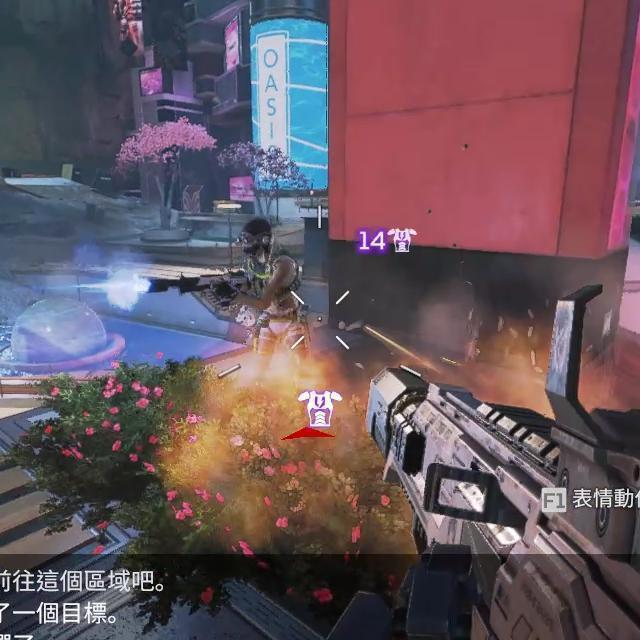avatar: (223, 217, 314, 366)
object: (102, 263, 151, 315)
